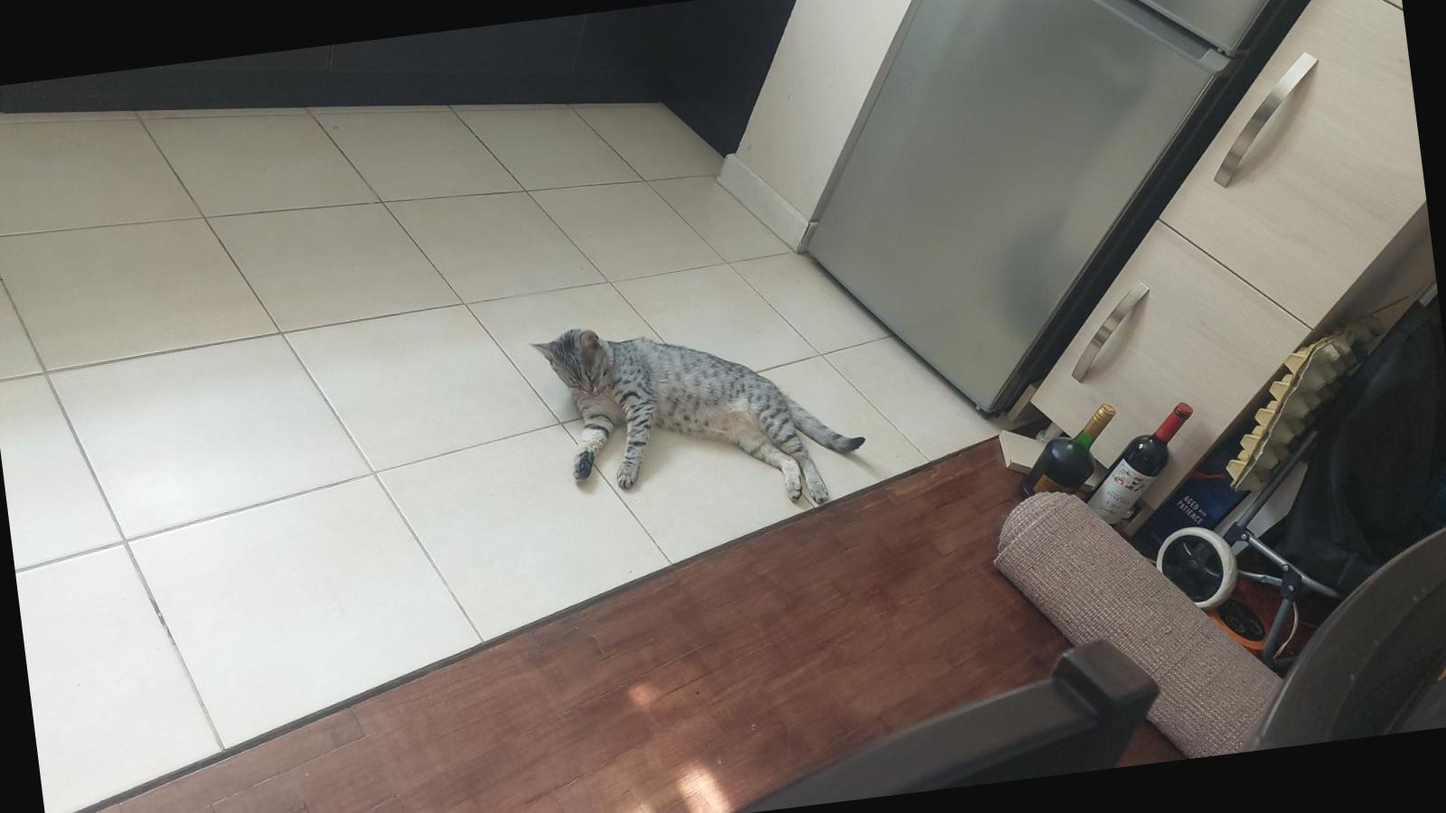macka: (526, 295, 872, 536)
